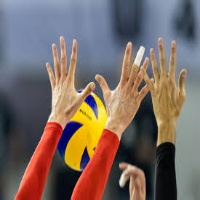ring: (49, 43, 61, 82), (135, 56, 148, 92), (146, 44, 158, 82)
